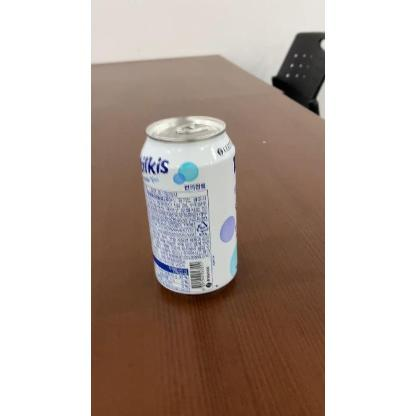Can: (136, 113, 240, 298)
